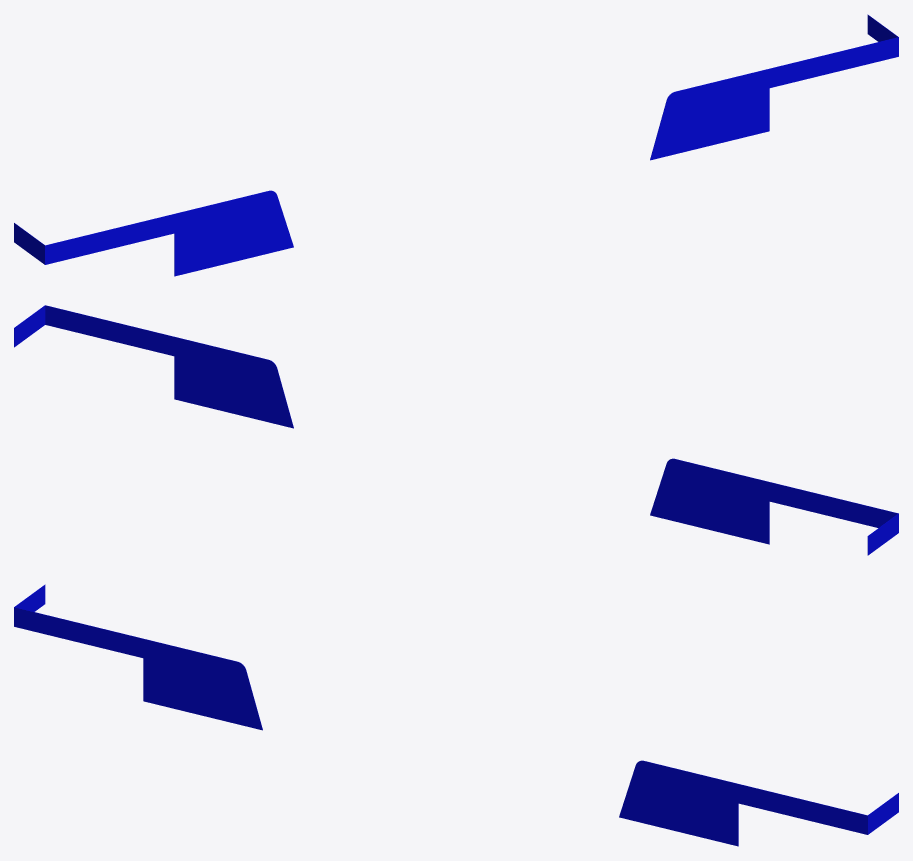
File: Al_Nasar_Football_Stadium_Front_002.FBX
3 views of the same model, one above another, from view 1: azimuth 30°, elevation 25°; view 2: azimuth 150°, elevation 25°; view 3: azimuth 330°, elevation 25° (orthographic).
Visible parts, largest first — view 1: Al_Nasar_Football_Stadium_Front_002; view 2: Al_Nasar_Football_Stadium_Front_002; view 3: Al_Nasar_Football_Stadium_Front_002.
Part boxes in pixels (x1,y1,x2,y2): Al_Nasar_Football_Stadium_Front_002: (14, 14, 898, 276); Al_Nasar_Football_Stadium_Front_002: (14, 305, 898, 555); Al_Nasar_Football_Stadium_Front_002: (14, 584, 898, 846).
Size of the model in its own units: 14195 by 897 by 993.
